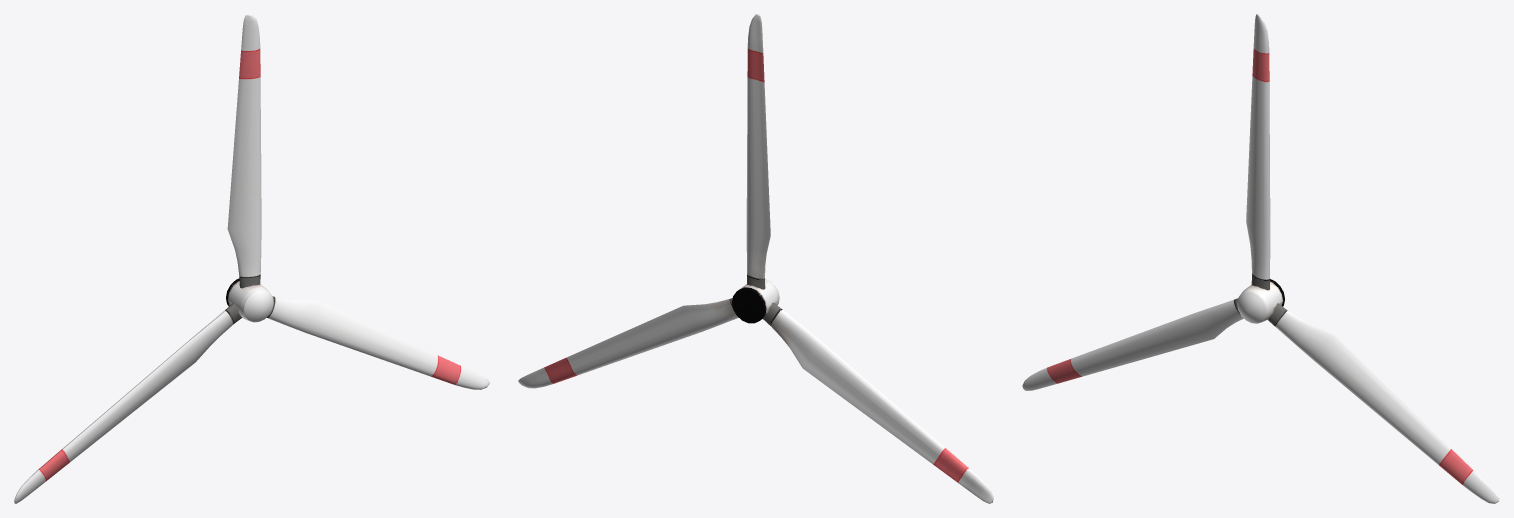
File: vrum.glb
The picture shows the model from 3 angles, left to right: view 1: azimuth 30°, elevation 25°; view 2: azimuth 150°, elevation 25°; view 3: azimuth 330°, elevation 25°; orthographic projection.
Visible parts, largest first — view 1: 1_Object_7_StaticMeshComponent0; view 2: 1_Object_7_StaticMeshComponent0; view 3: 1_Object_7_StaticMeshComponent0.
Part boxes in pixels (left/top/right/bottom): 1_Object_7_StaticMeshComponent0: left=14, top=14, right=489, bottom=503; 1_Object_7_StaticMeshComponent0: left=518, top=14, right=993, bottom=503; 1_Object_7_StaticMeshComponent0: left=1022, top=14, right=1499, bottom=503.
Bounding box in the file's own units: 13.5 × 11.77 × 1.03.
1 material, 1 textured.
